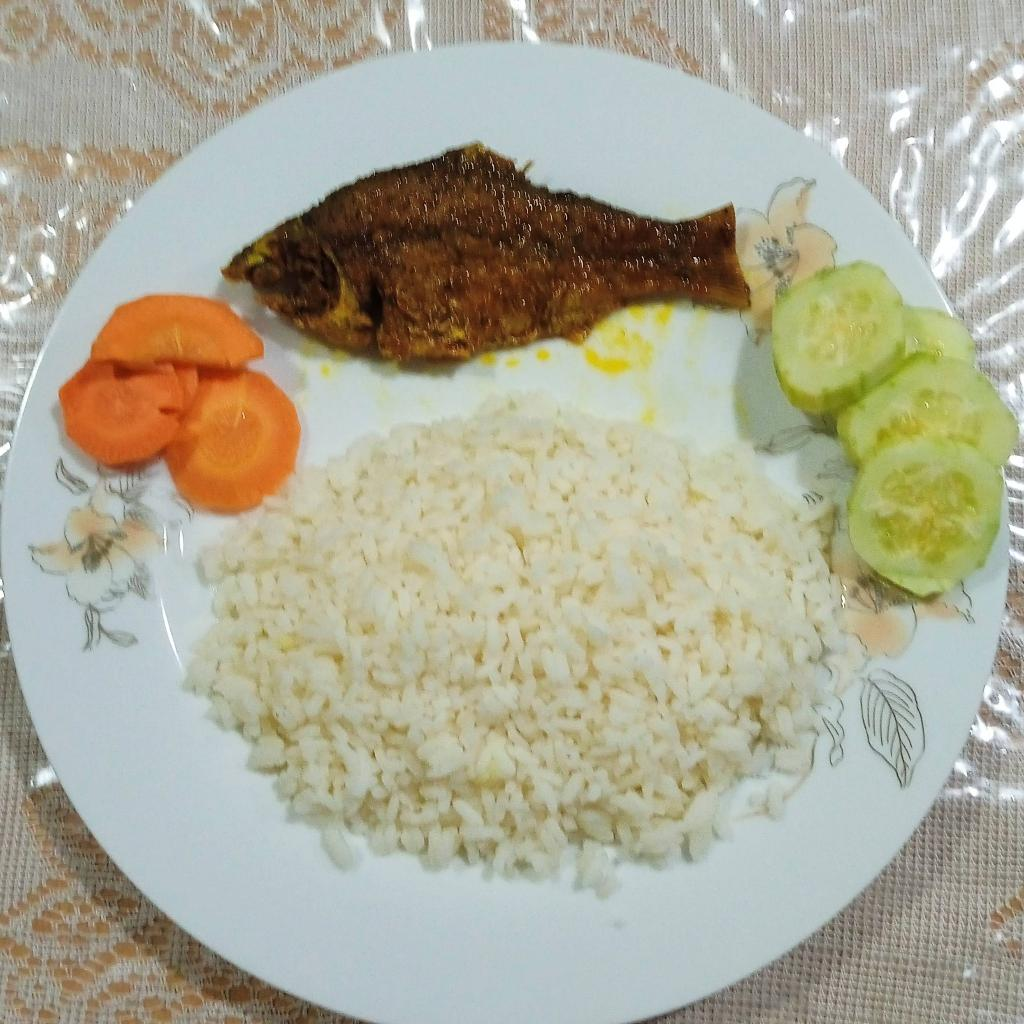carrot: (64, 290, 302, 512)
cucumber: (768, 262, 1024, 590)
fish: (221, 139, 753, 366)
rice: (183, 411, 844, 896)
